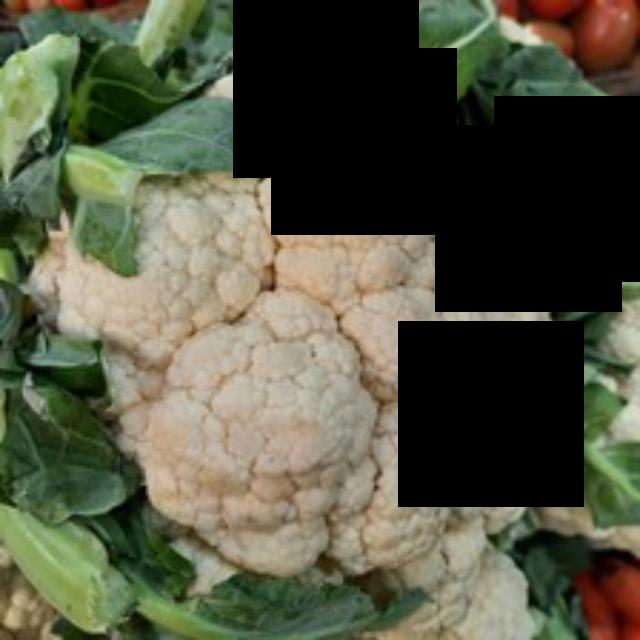cauliflower: (46, 32, 569, 590)
